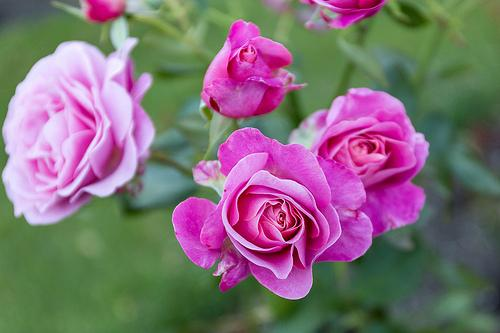Rose: (173, 132, 377, 303), (4, 43, 155, 229), (295, 72, 430, 236), (207, 10, 300, 126)
